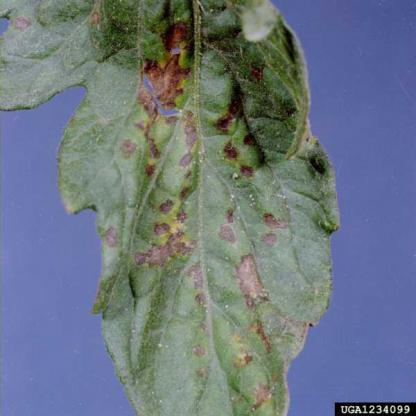Tomato leaf late blight: (32, 5, 346, 412)
